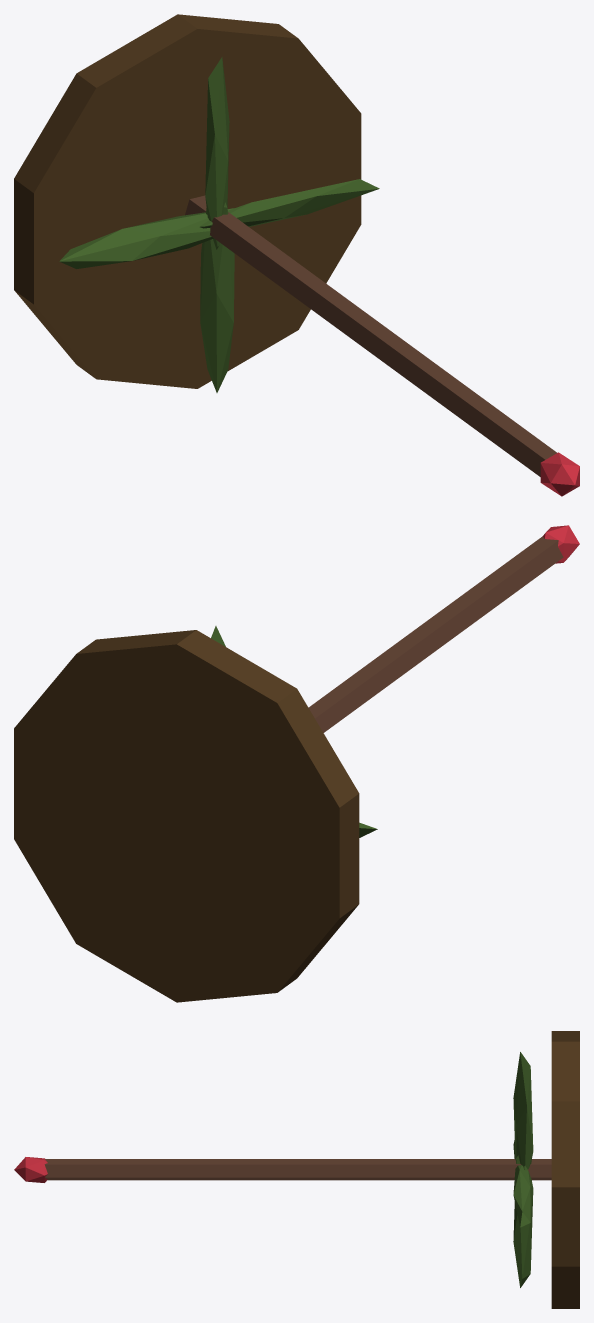
File: 3_budding.obj
The picture shows the model from 3 angles, top to bottom: view 1: azimuth 30°, elevation 25°; view 2: azimuth 150°, elevation 25°; view 3: azimuth 270°, elevation 25°; orthographic projection. The views are drawn at different scales.
Parts seen in each view (by area): view 1: rose_3_budding; view 2: rose_3_budding; view 3: rose_3_budding.
Boxes of the visible parts, <box> form: rose_3_budding: <box>14,14,579,496</box>; rose_3_budding: <box>14,525,579,1002</box>; rose_3_budding: <box>14,1031,579,1308</box>.
Size of the model in its own units: 0.1902 by 0.2 by 0.4.
